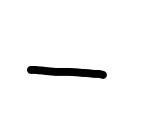minus: (27, 66, 107, 79)
